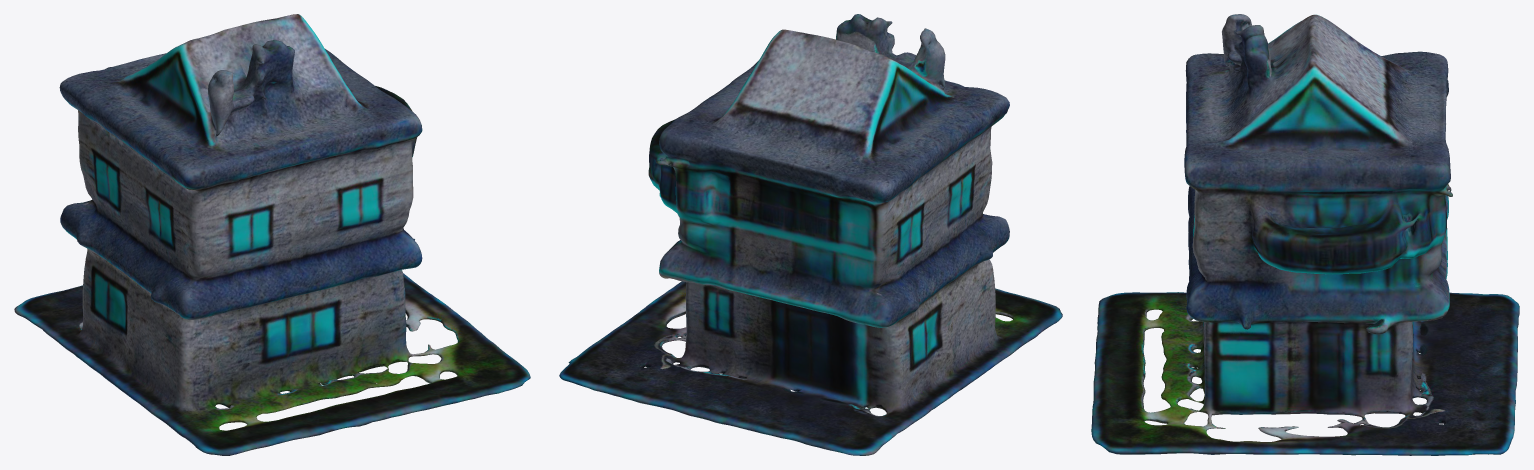
Rendered from e51fd8dd518c_Create_a_futuristic.fbx.
3 renders of one model, left to right at view 1: azimuth 30°, elevation 25°; view 2: azimuth 150°, elevation 25°; view 3: azimuth 270°, elevation 25°, orthographic. The views are drawn at different scales.
Visible parts, largest first — view 1: mesh; view 2: mesh; view 3: mesh.
Boxes of the visible parts, <box> form: mesh: <box>14,14,530,455</box>; mesh: <box>559,14,1062,455</box>; mesh: <box>1091,14,1519,455</box>.
Size of the model in its own units: 89.74 by 86.89 by 99.82.
